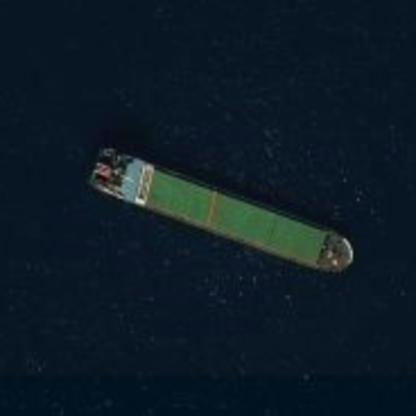ship: (80, 136, 364, 284)
